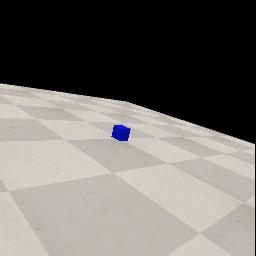box: (111, 125, 131, 141)
